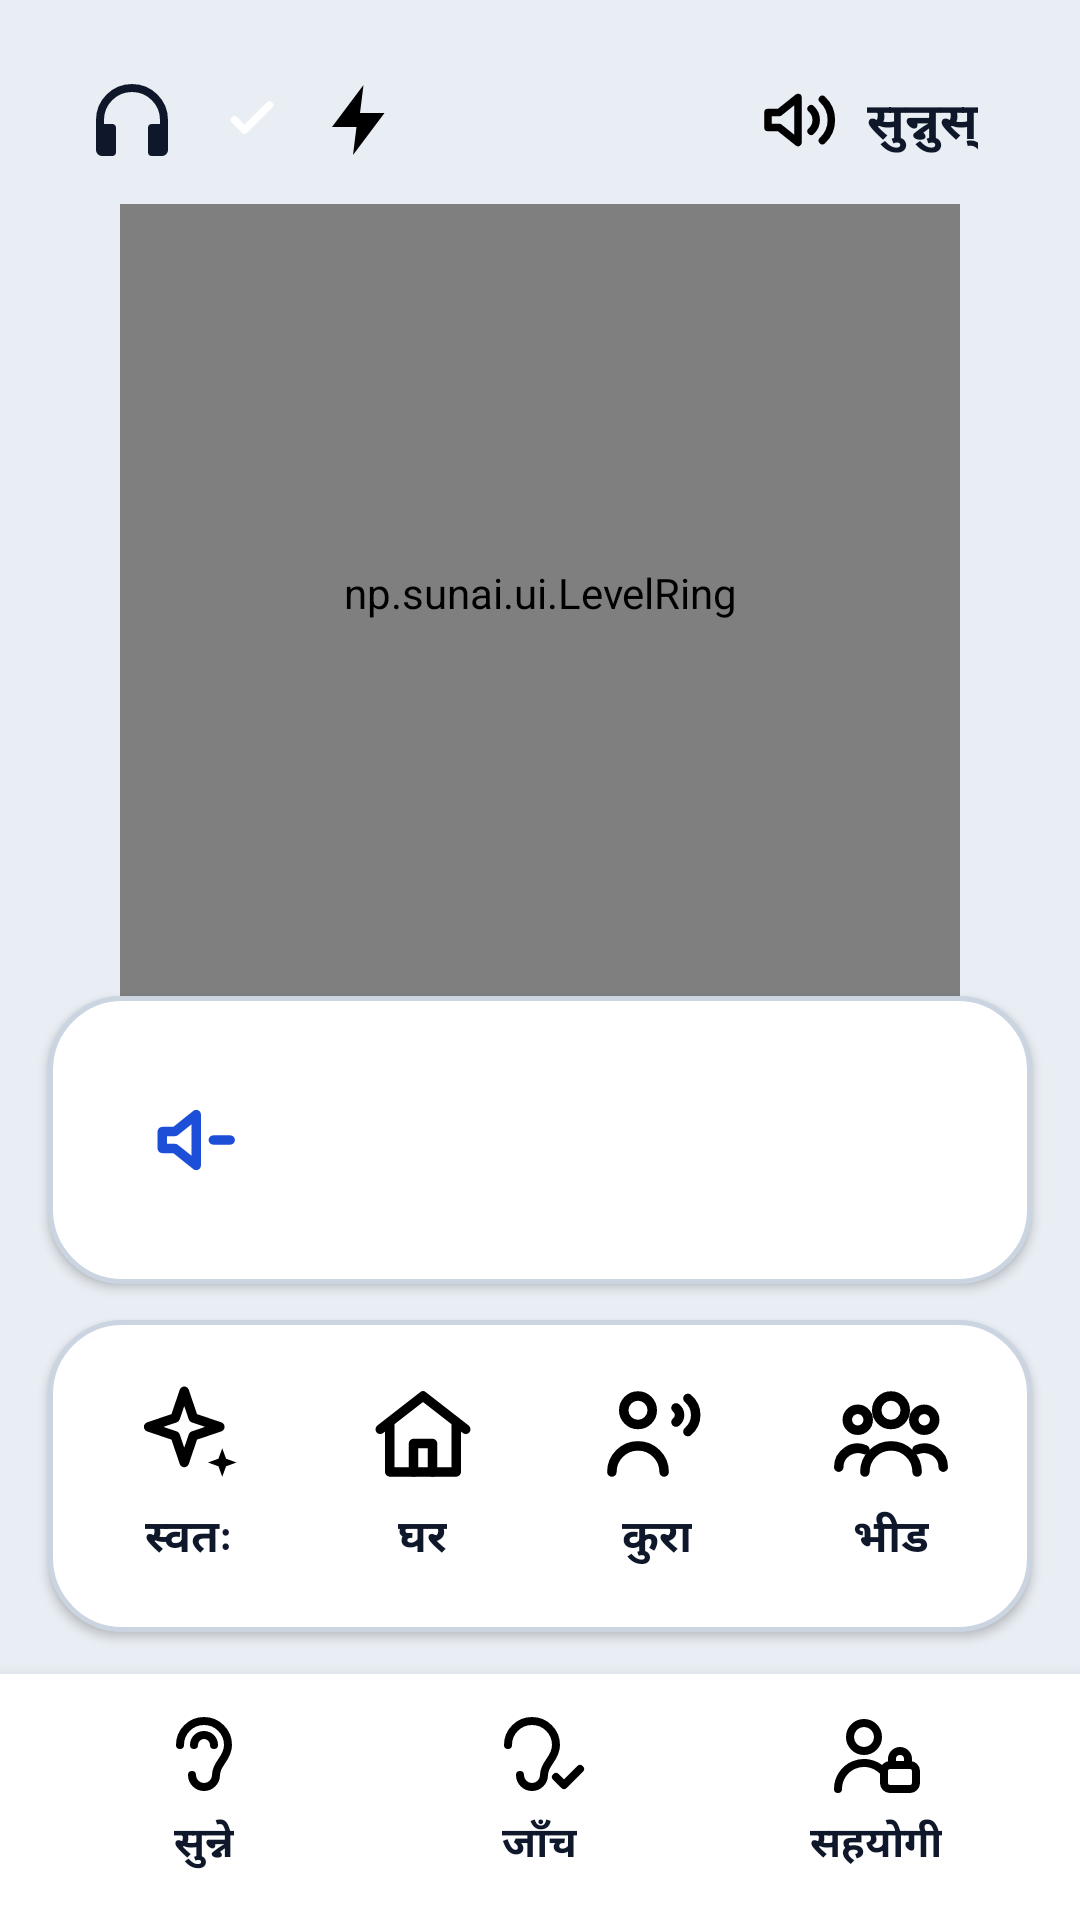

Named icons in this screenshot (1080px x 1920px) and their centers, (x,y):
auto: (190,1431)
bolt: (358,120)
ear: (204,1754)
earbud: (132,120)
place home: (423,1434)
place talk: (654,1434)
vol down: (196,1140)
